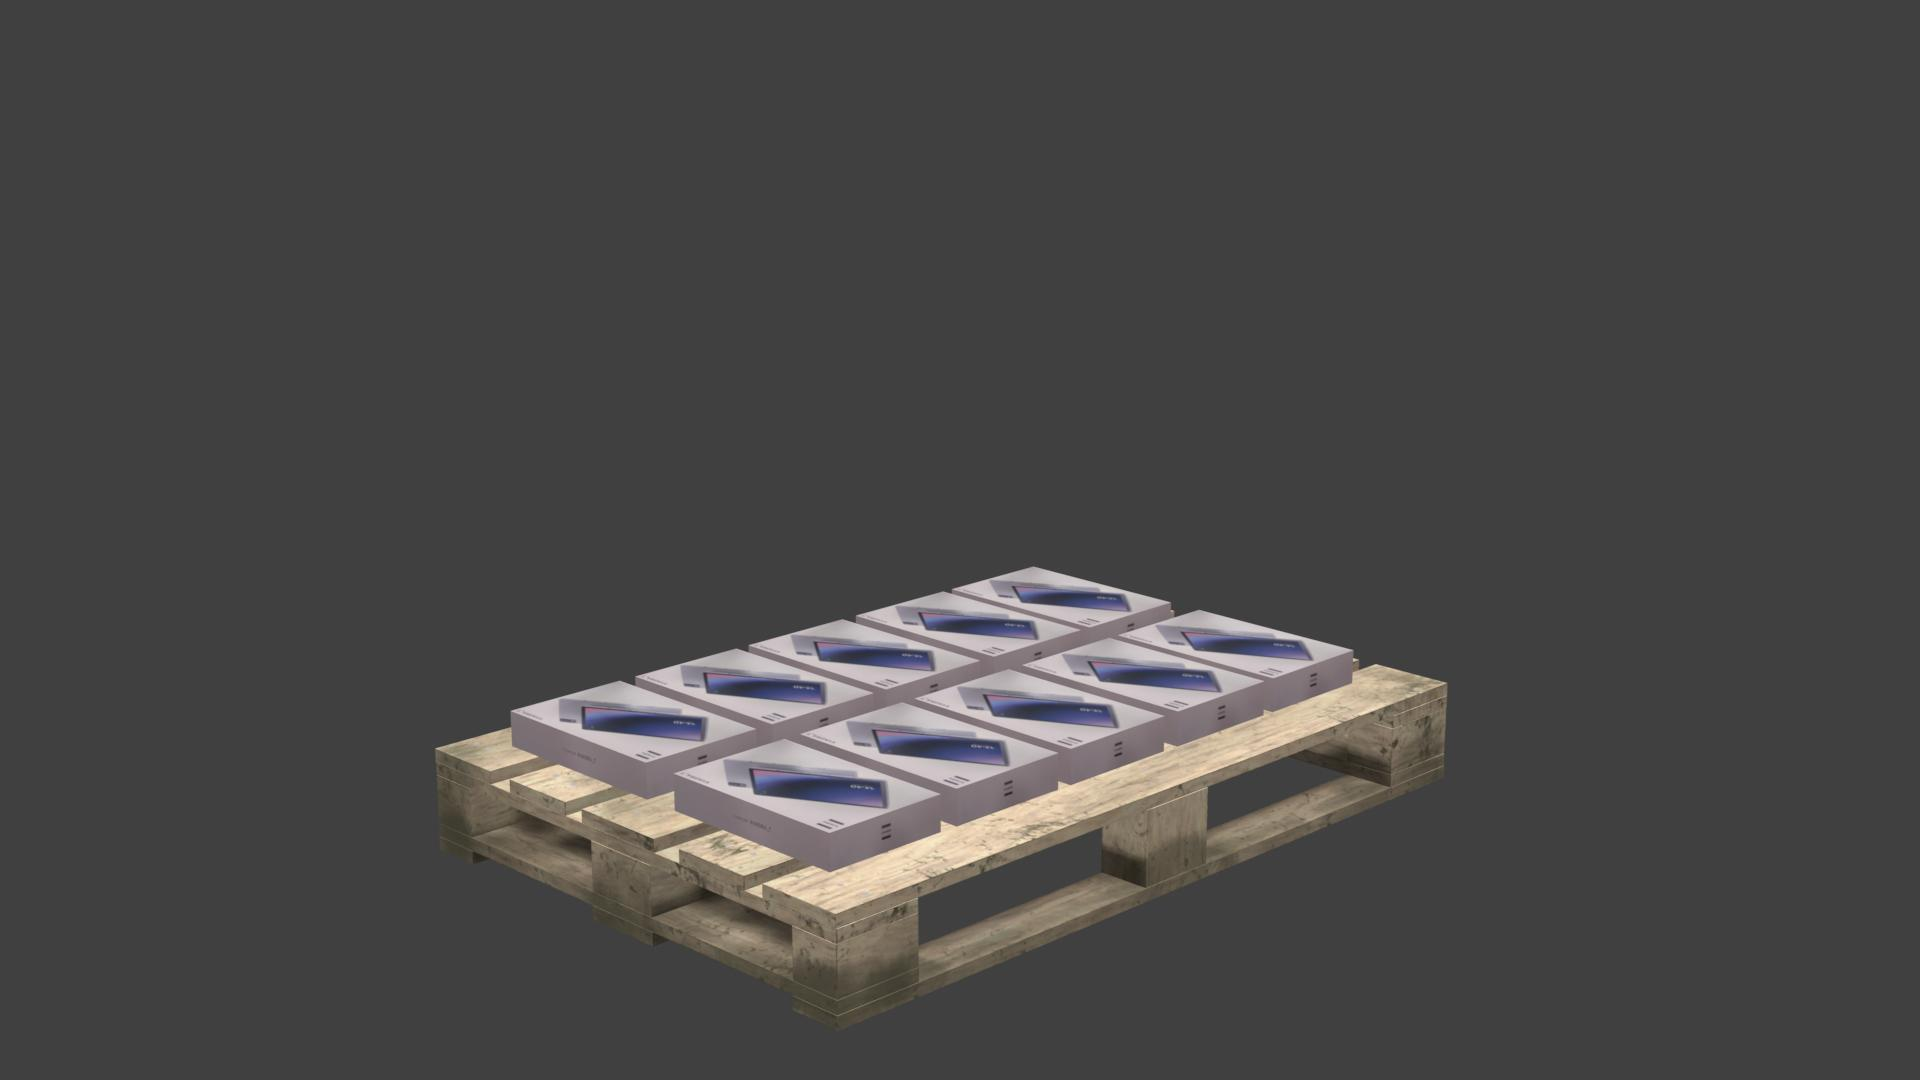palet: (433, 659, 1448, 1034)
tablet_left: (675, 775, 940, 873), (510, 713, 758, 800), (942, 757, 1058, 827), (1058, 719, 1164, 785), (1166, 683, 1263, 745), (1265, 651, 1353, 712), (773, 695, 874, 742), (887, 662, 981, 705), (994, 630, 1080, 674), (1089, 603, 1171, 642)
tablet_top: (676, 738, 938, 835), (802, 703, 1059, 789), (512, 680, 757, 762), (918, 669, 1164, 748), (1026, 637, 1263, 712), (640, 649, 870, 724), (1121, 609, 1356, 679), (753, 620, 976, 688), (858, 589, 1077, 658), (953, 566, 1170, 628)
